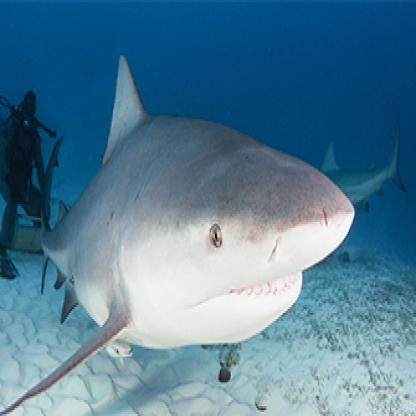shark: (1, 53, 361, 413)
